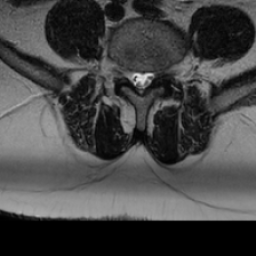CCS_normal: (137, 62, 145, 102)
LFS_stenosis: (154, 60, 163, 85)
LLS_normal: (145, 62, 154, 92)
RFS_normal: (119, 55, 128, 86)
RLS_normal: (128, 60, 137, 96)
